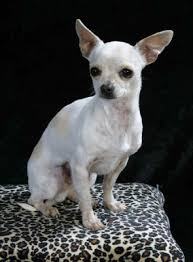chihuahua: (30, 11, 176, 240)
